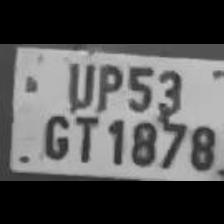1: (100, 111, 126, 165)
3: (152, 64, 184, 114)
5: (122, 60, 154, 110)
7: (156, 115, 184, 171)
8: (186, 118, 218, 170), (126, 114, 156, 168)
G: (38, 110, 72, 158)
P: (94, 58, 124, 112)
T: (69, 112, 100, 162)
U: (60, 57, 96, 110)
